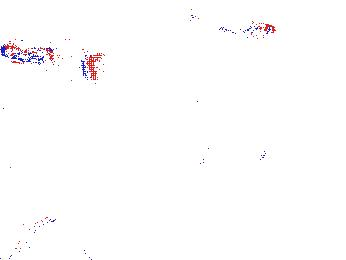red belly glassfish: (217, 21, 276, 39), (183, 10, 198, 33)
redtail glassfish: (1, 33, 97, 82), (6, 210, 65, 260), (192, 146, 269, 172)
